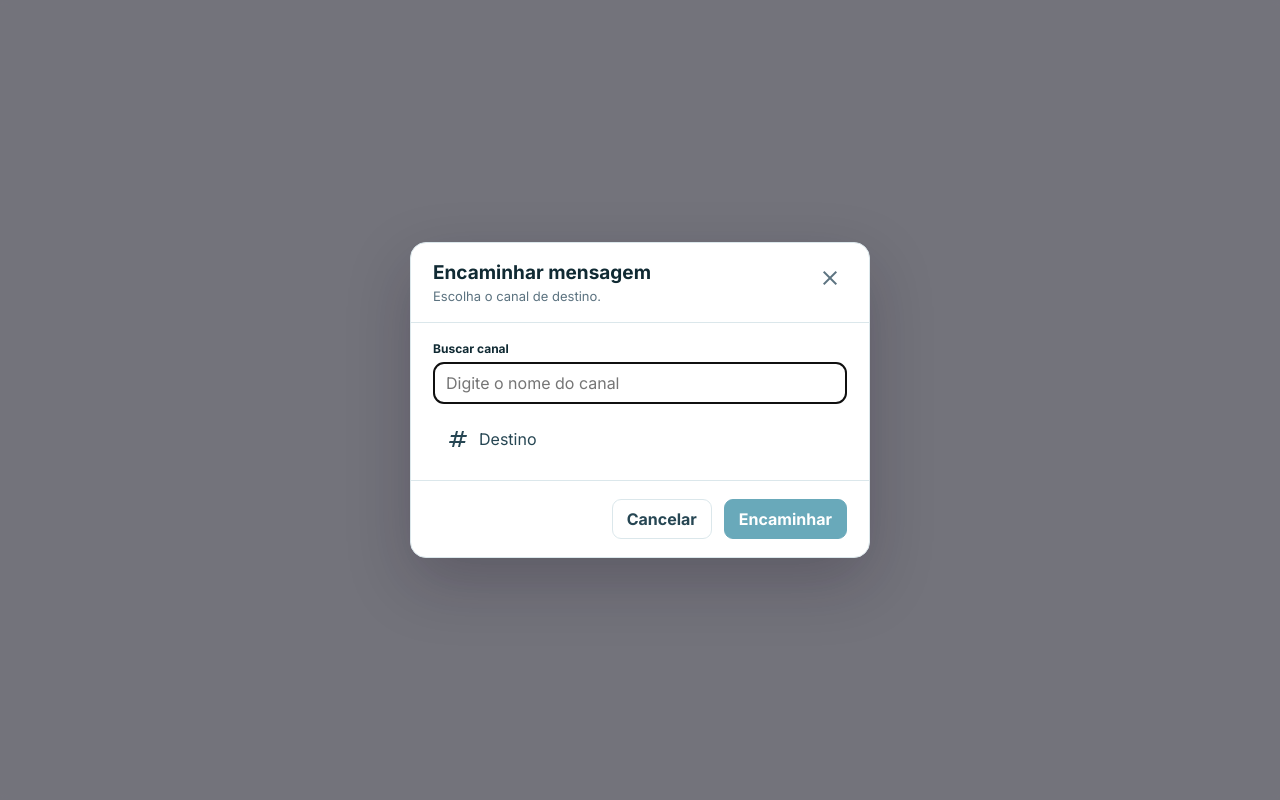
Test: ForwardMessageDialog retry › shows non-abort DOM failures and restores controls
Step 1. Click the button "Destino" → (508, 439), box [433, 416, 847, 462]
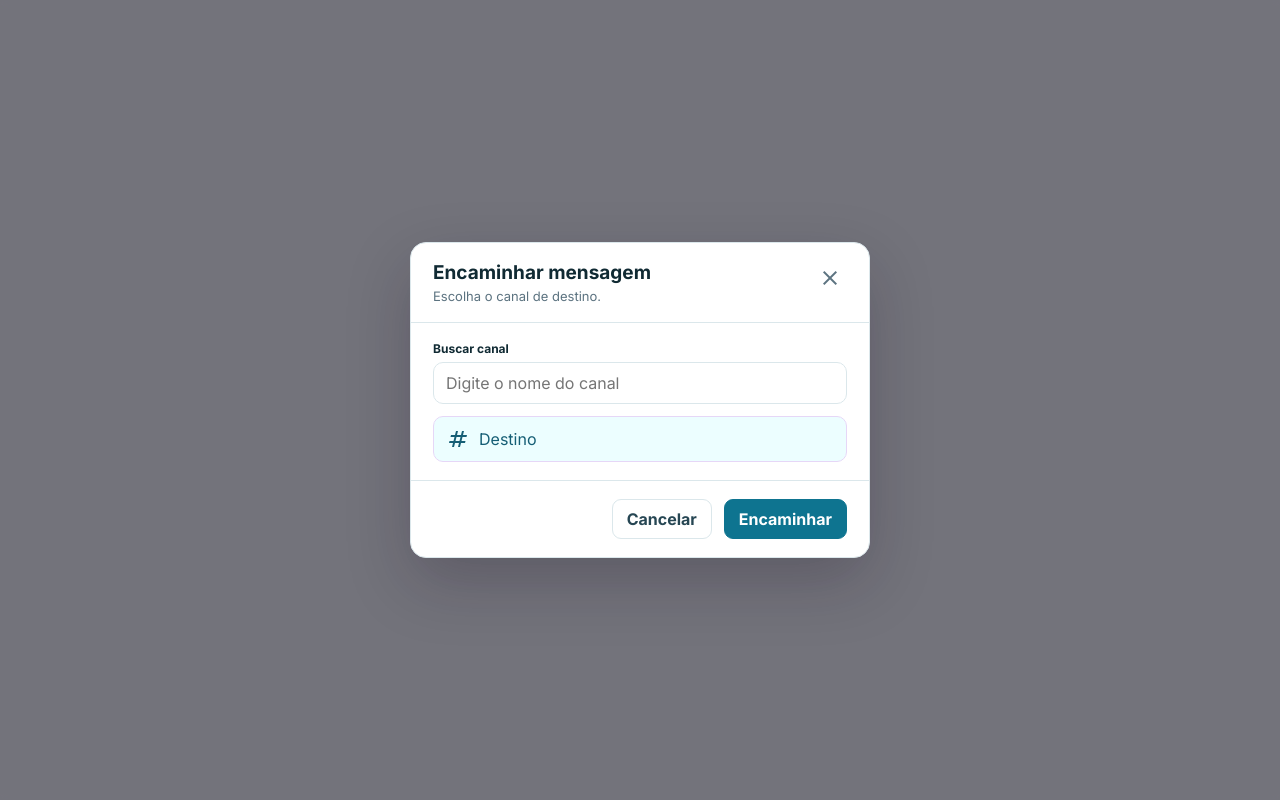
Step 2. Double-click the button "Encaminhar" → (785, 519), box [724, 499, 847, 539]
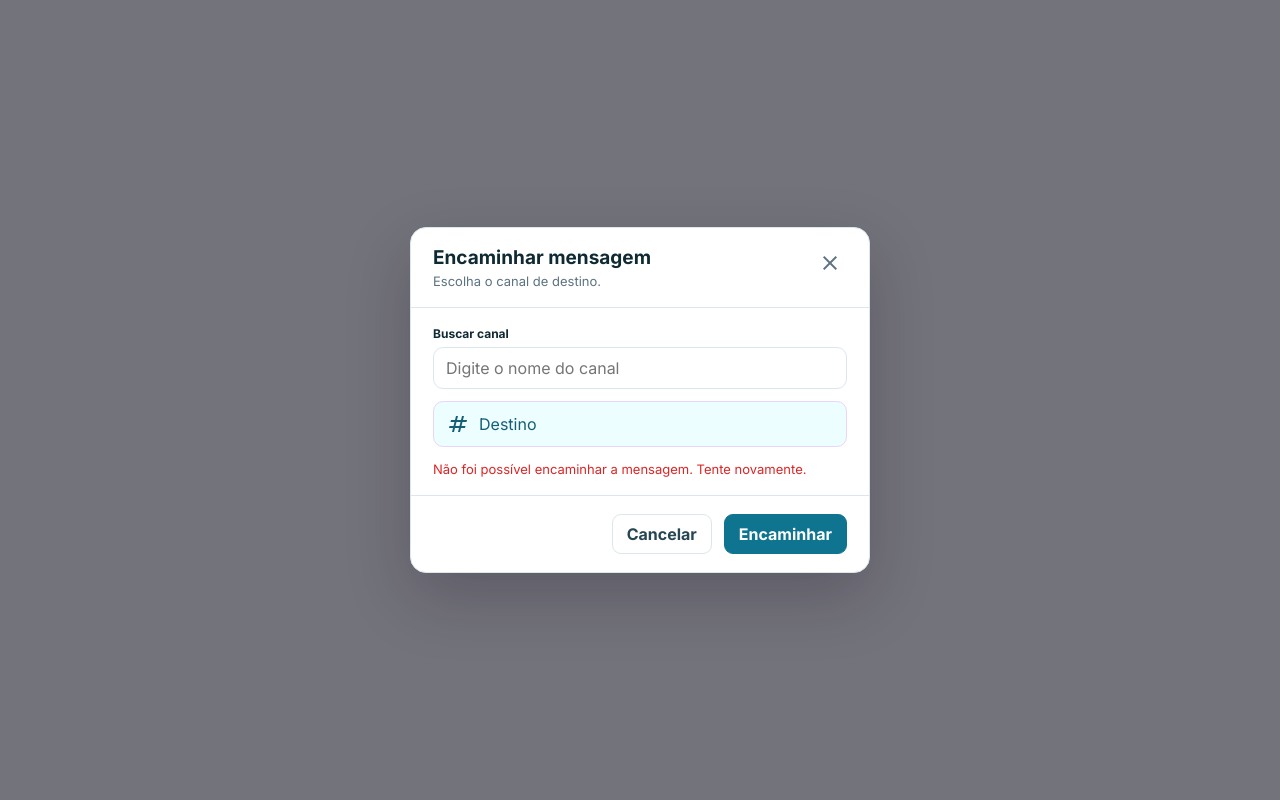
Expected: the button "Encaminhar" is enabled, [724, 514, 847, 554]
Expected: the message shows "Não foi possível encaminhar a mensagem", [433, 461, 806, 477]
